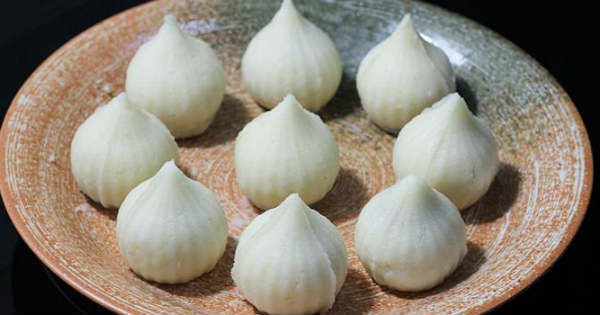modak: (361, 177, 486, 288), (131, 11, 240, 131), (233, 198, 357, 300), (398, 99, 508, 211), (354, 12, 463, 123), (75, 90, 186, 198), (231, 98, 356, 193), (126, 168, 229, 279), (240, 5, 347, 109)
